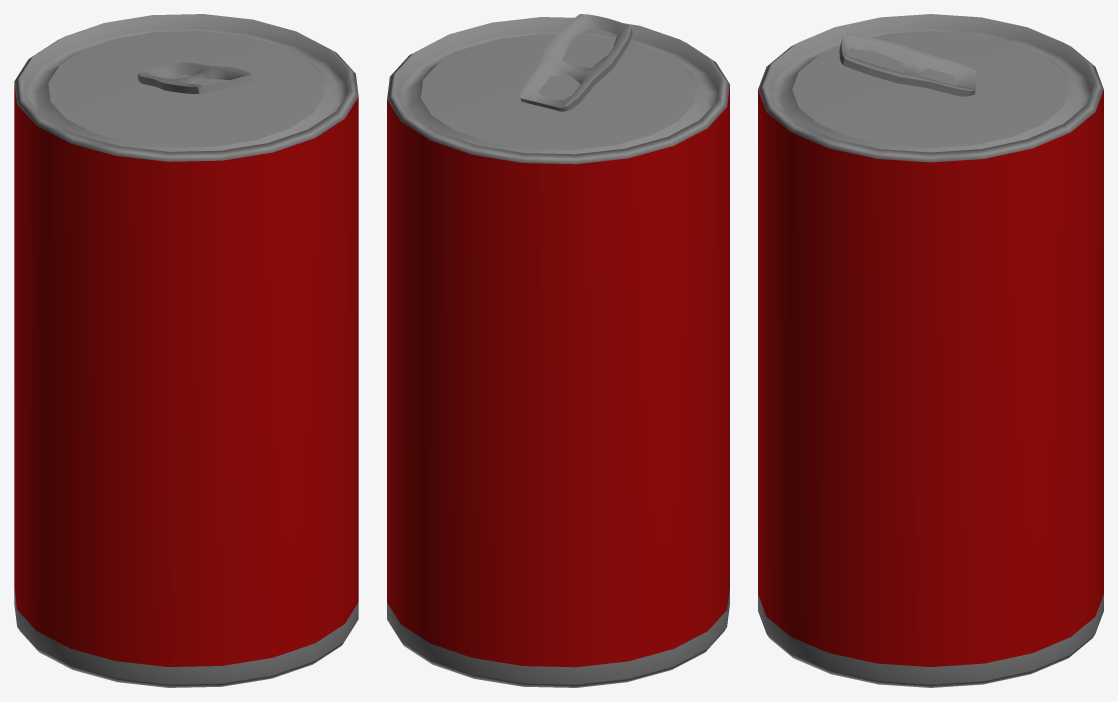
The model's file is can.fbx.
3 renders of one model, left to right at view 1: azimuth 30°, elevation 25°; view 2: azimuth 150°, elevation 25°; view 3: azimuth 270°, elevation 25°, orthographic.
Visible parts, largest first — view 1: pCube2; view 2: pCube2; view 3: pCube2.
Part boxes in pixels (box(x1,y1,x2,y2)): pCube2: box(14, 14, 358, 687); pCube2: box(387, 14, 729, 687); pCube2: box(758, 14, 1103, 687).
Bounding box in the file's own units: 2 × 3.63 × 2.
